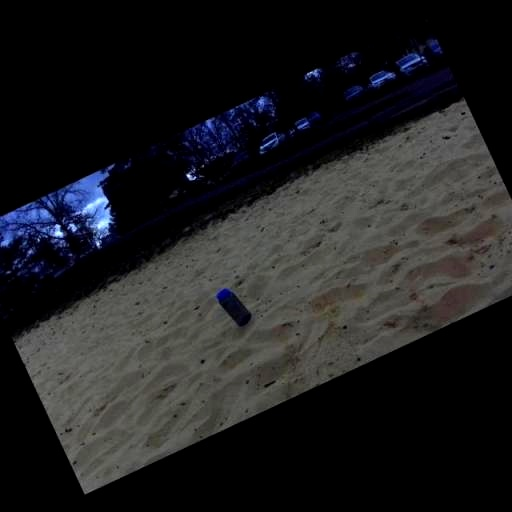bottle: (213, 282, 257, 332)
